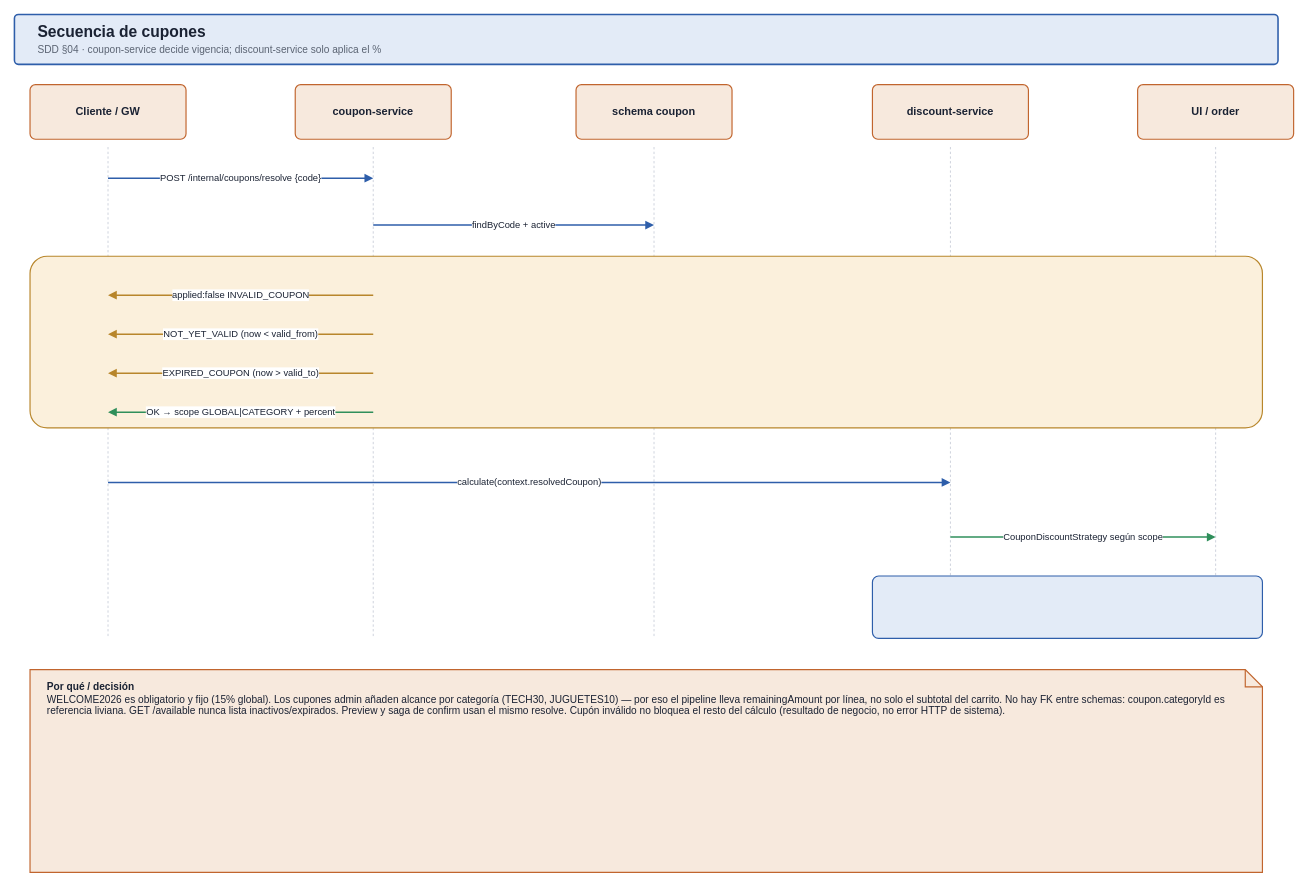
This 1307x886 diagram has some shape labels left out. Each missing label, with the centre of its shape:
"HU7 CATEGORY: solo líneas de esa categoría · GLOBAL: todas" belongs at point (1067, 607).
"Motivos de negocio (HTTP 200, no 5xx)" belongs at point (646, 341).
